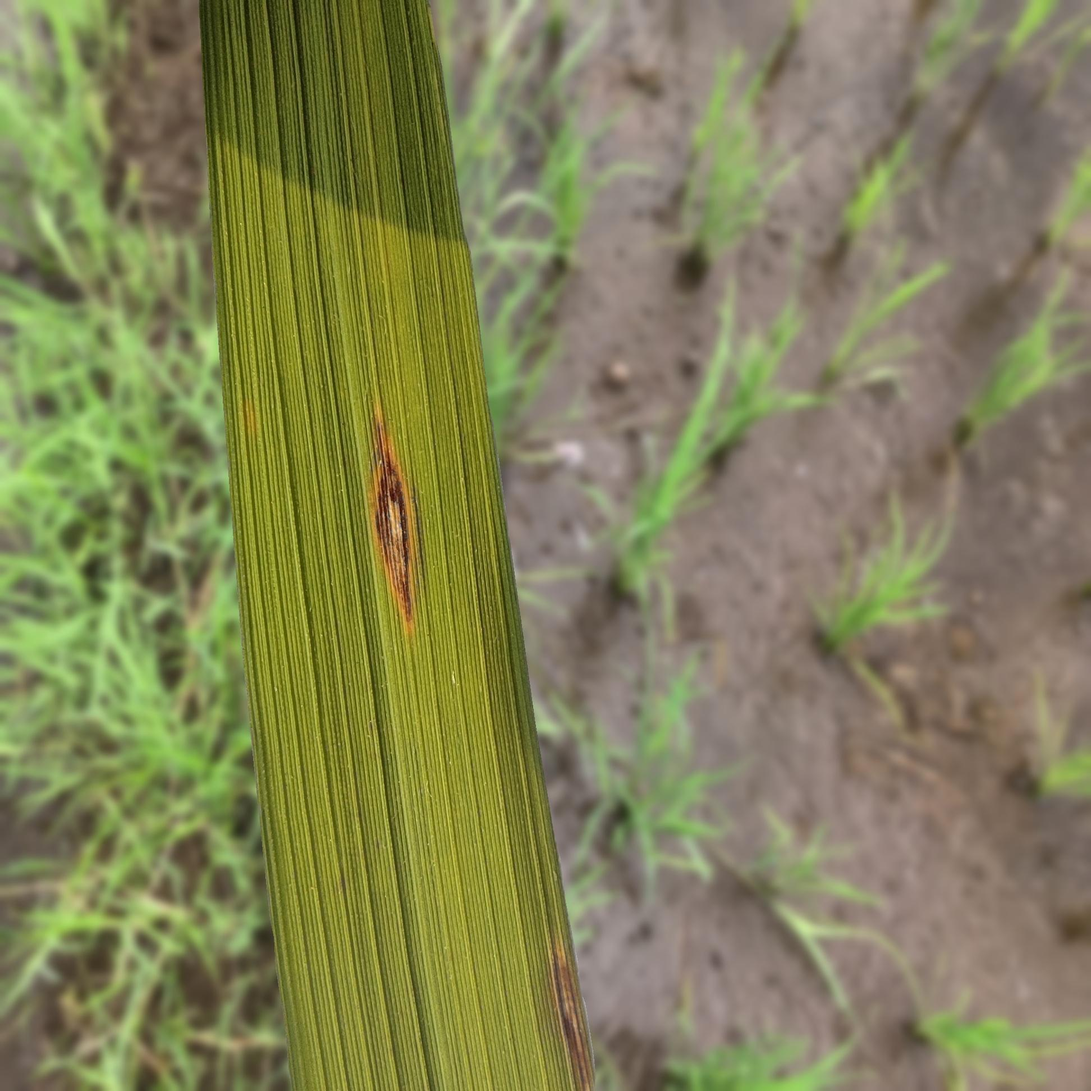LEAF BLAST: (372, 414, 413, 631), (551, 938, 594, 1090)
